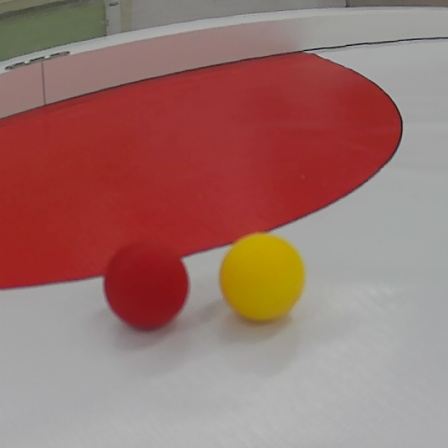red: (107, 245, 193, 331)
red_base: (2, 54, 408, 296)
yellow: (219, 232, 306, 324)
